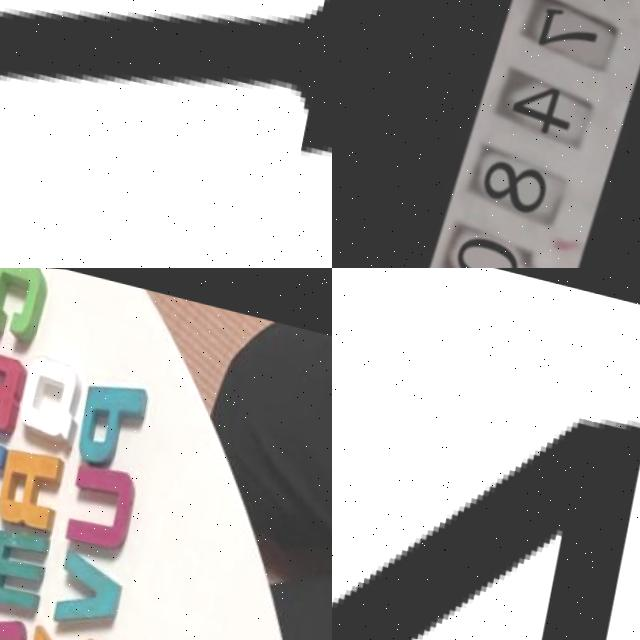0: (436, 212, 538, 268)
2: (332, 283, 640, 640)
4: (490, 59, 595, 144)
7: (519, 0, 614, 61)
8: (464, 136, 564, 221)
C: (0, 268, 52, 340)
M: (0, 521, 49, 614)
P: (75, 373, 147, 468)
Q: (18, 347, 87, 432)
R: (0, 442, 63, 532)
U: (60, 450, 136, 548)
V: (51, 547, 120, 635)
W: (0, 335, 30, 437)
